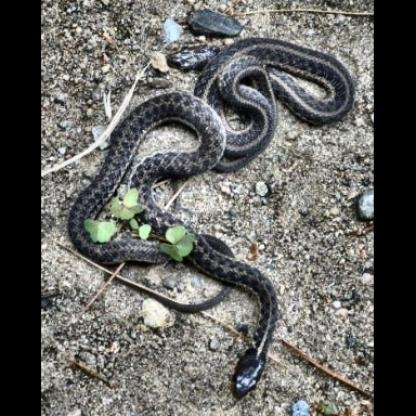Snake: (69, 36, 358, 403)
